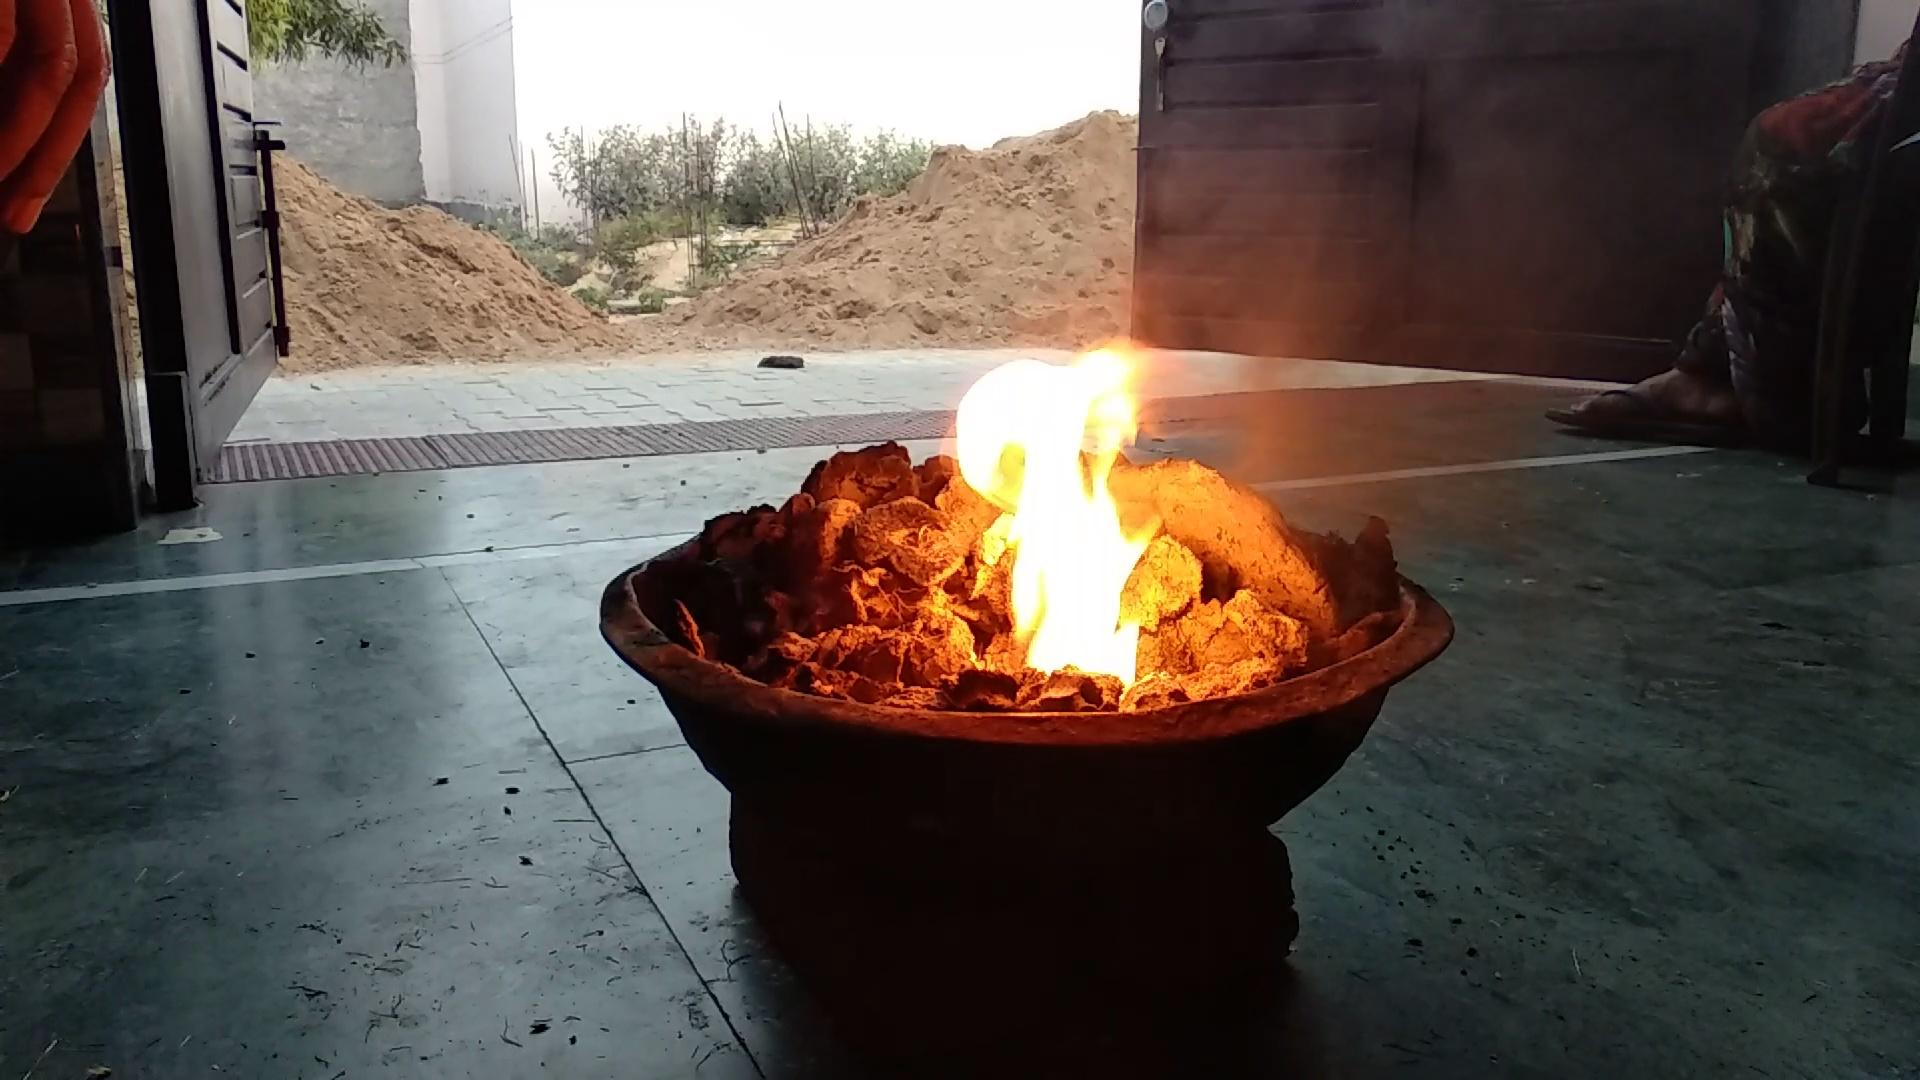fire: (956, 334, 1154, 687)
